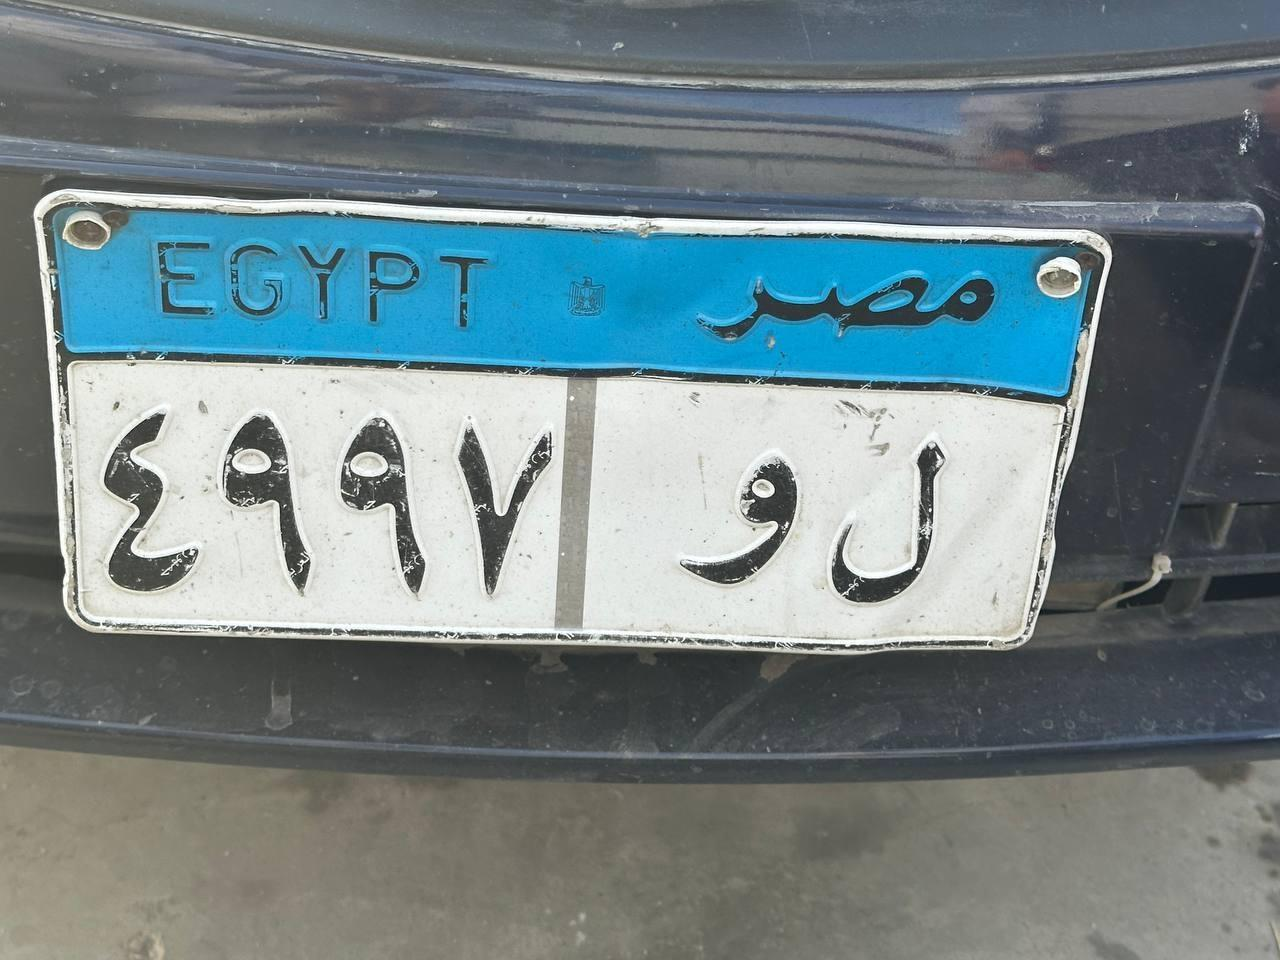4: (92, 393, 194, 584)
7: (456, 422, 556, 606)
9: (220, 412, 326, 597), (332, 422, 434, 608)
Laam: (832, 438, 952, 606)
License Plate: (32, 179, 1115, 657)
Wow: (670, 450, 793, 596)
